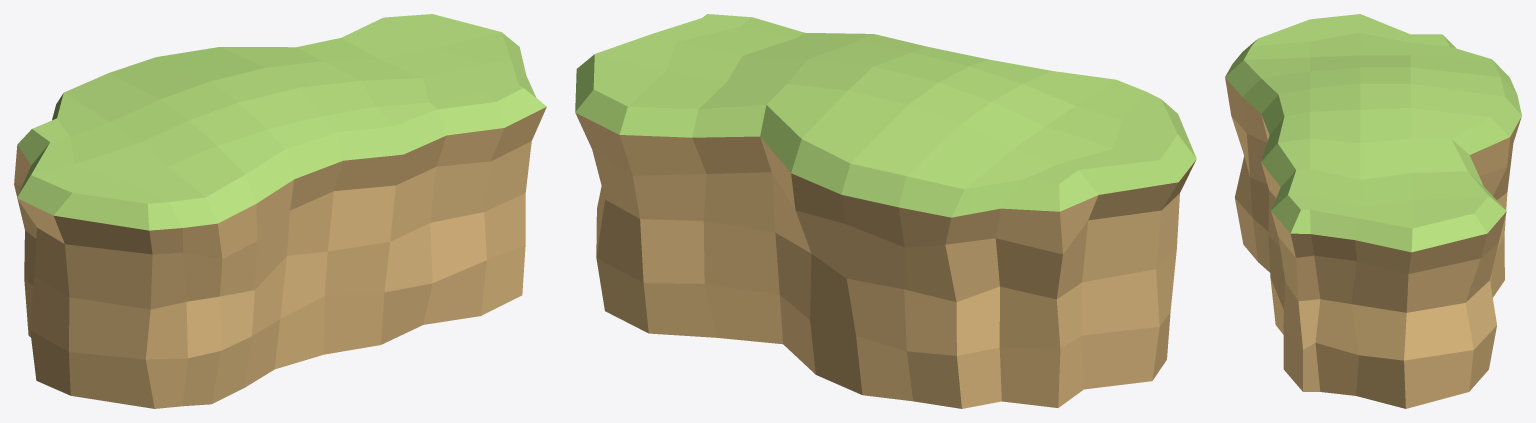
File: cliff2.fbx
3 views of the same model, side by side, from view 1: azimuth 30°, elevation 25°; view 2: azimuth 150°, elevation 25°; view 3: azimuth 270°, elevation 25° (orthographic). The views are drawn at different scales.
Visible parts, largest first — view 1: cliff; view 2: cliff; view 3: cliff.
Boxes of the visible parts, left/top/right/bottom form: cliff: left=14, top=14, right=546, bottom=408; cliff: left=575, top=14, right=1196, bottom=408; cliff: left=1225, top=14, right=1521, bottom=408.
Bounding box in the file's own units: 2019 × 831 × 1112.
Materials: 1 (1 with a texture image).
